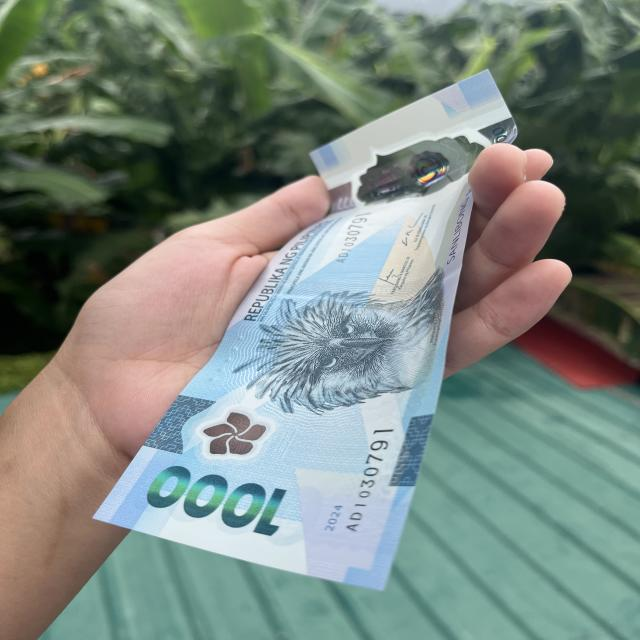clear_window: (315, 94, 517, 225)
eagle: (217, 288, 449, 425)
sampaguita: (181, 400, 307, 477)
serial_number: (342, 425, 398, 536)
